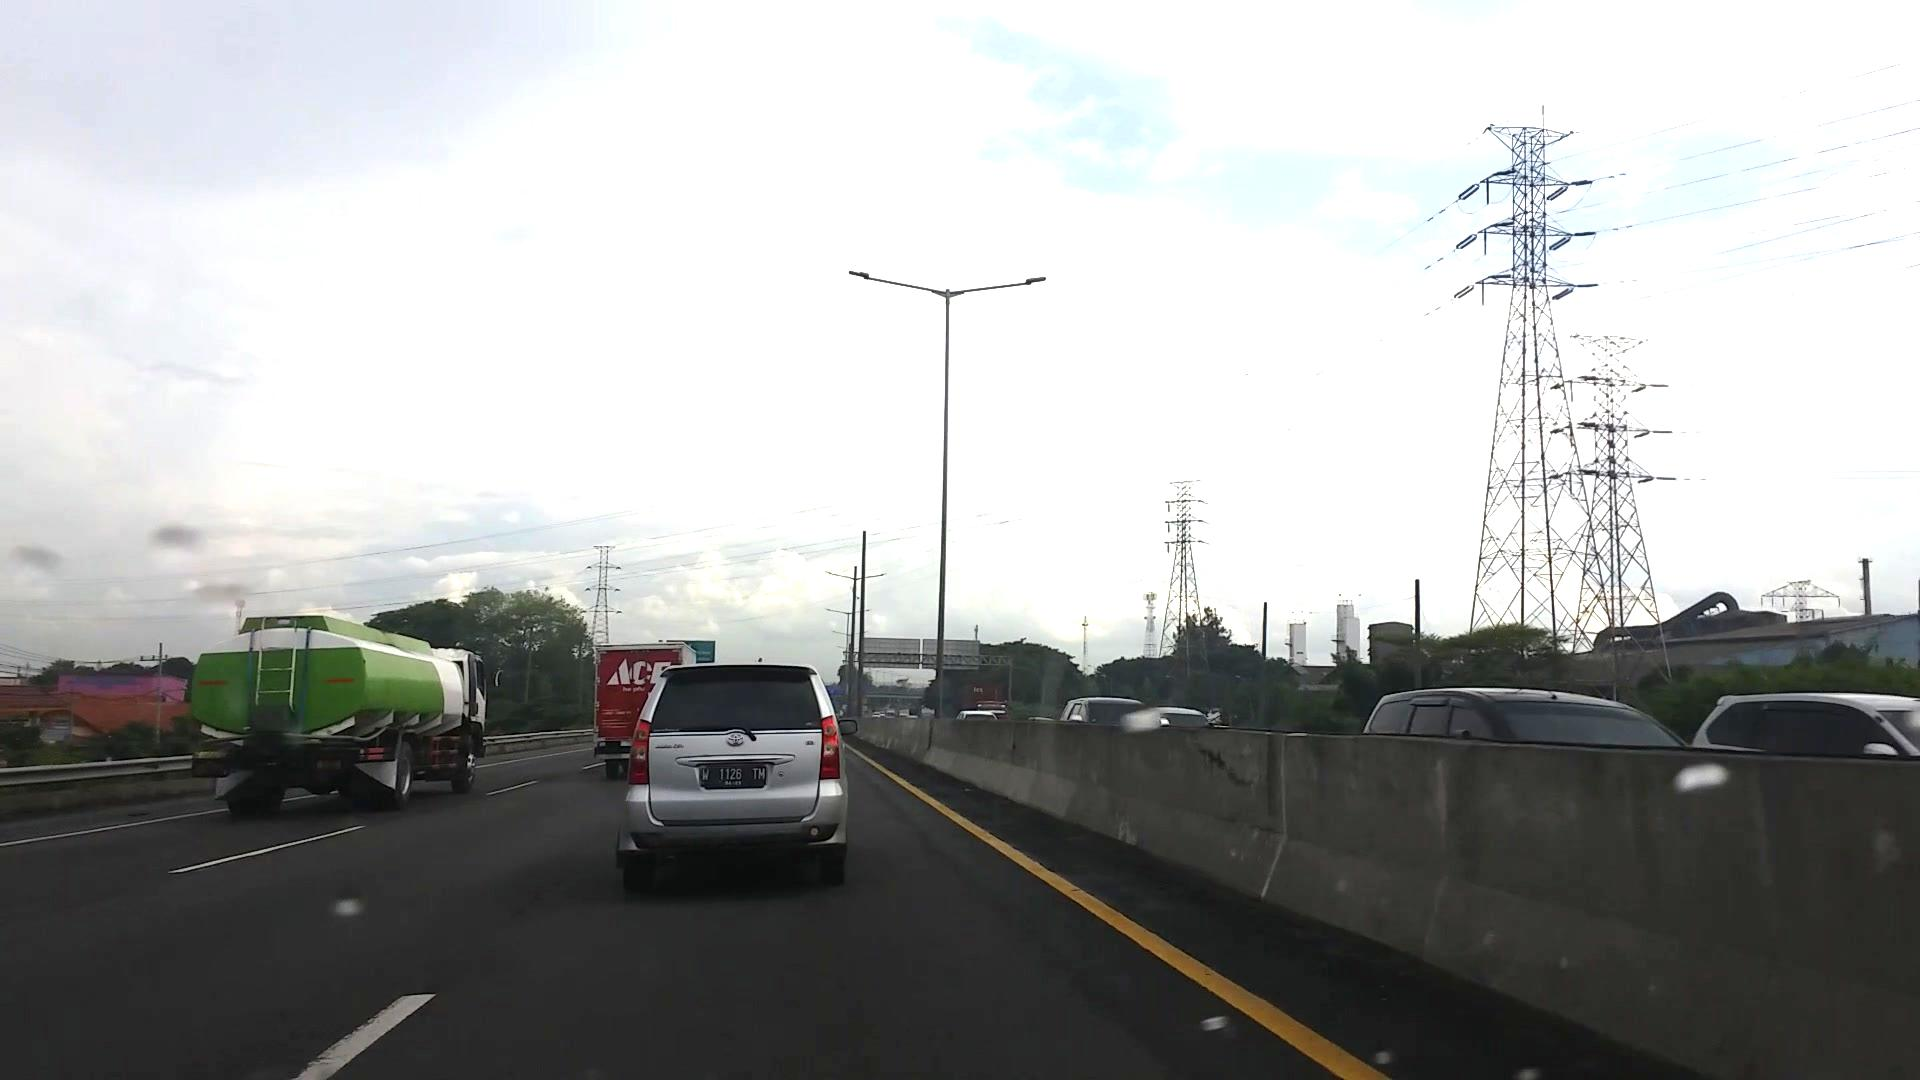plate_positive: (702, 764, 767, 789)
